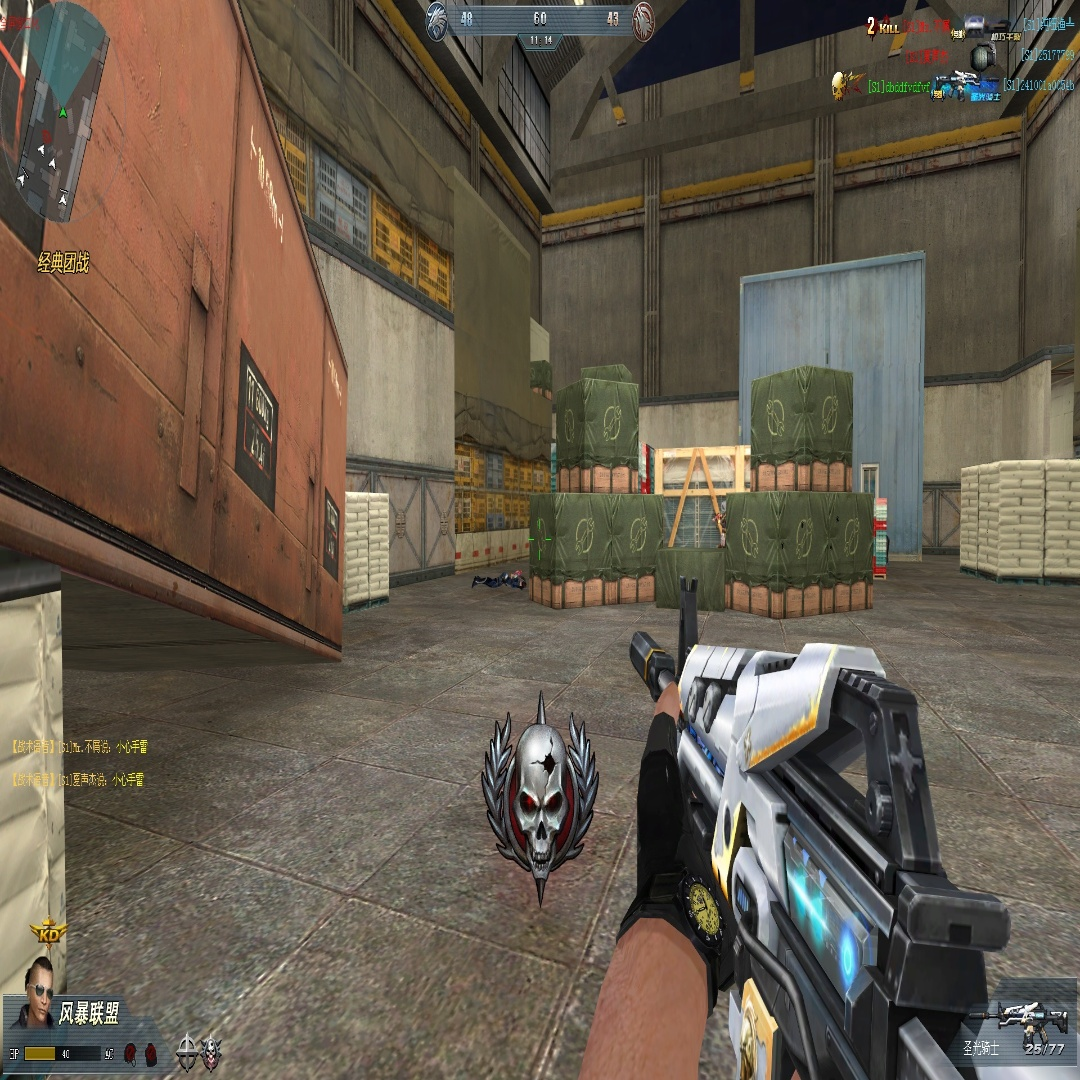ct: (8, 955, 56, 1031)
